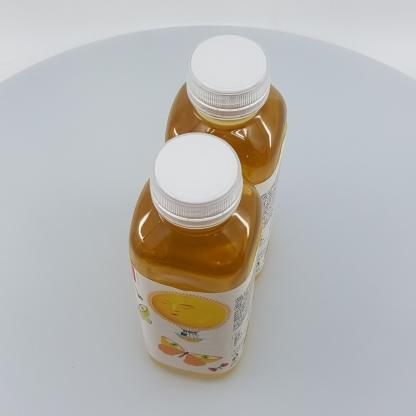------------: (129, 132, 263, 379), (165, 34, 287, 282)
